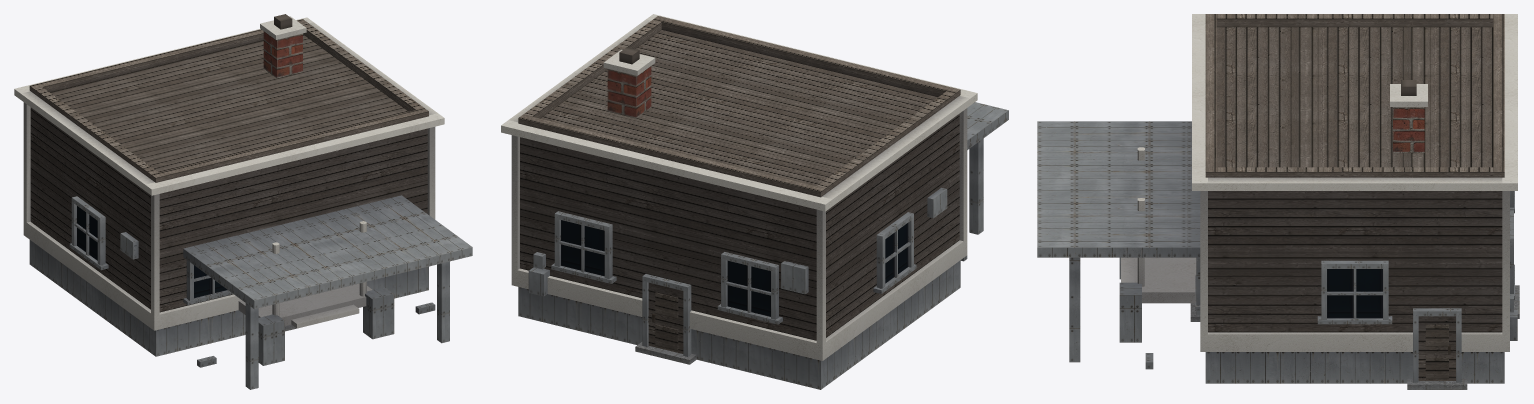
Rendered from marina-fuel-dock_lod0.gltf.
3 views of the same model, side by side, from view 1: azimuth 30°, elevation 25°; view 2: azimuth 150°, elevation 25°; view 3: azimuth 270°, elevation 25° (orthographic). The views are drawn at different scales.
Visible parts, largest first — view 1: marina-fuel-dock_upper, marina-fuel-dock__canopy, marina-fuel-dock__v4_stone_detail, marina-fuel-dock_base, marina-fuel-dock__parapet_back, marina-fuel-dock__parapet_front, marina-fuel-dock_fen_14-steel-panel_0, marina-fuel-dock__parapet_right, marina-fuel-dock__parapet_left, marina-fuel-dock__v4_brick_detail, marina-fuel-dock__fuel_pump_b, marina-fuel-dock__fuel_pump_a (+3 smaller); view 2: marina-fuel-dock_upper, marina-fuel-dock__v4_stone_detail, marina-fuel-dock_base, marina-fuel-dock_fen_14-steel-panel_0, marina-fuel-dock_fen_07-glass-curtain-blue_1_t, marina-fuel-dock__parapet_front, marina-fuel-dock__parapet_back, marina-fuel-dock__parapet_right, marina-fuel-dock__v4_brick_detail, marina-fuel-dock__parapet_left, marina-fuel-dock_fen_18-timber-siding_4, marina-fuel-dock__canopy_post_a (+3 smaller); view 3: marina-fuel-dock_upper, marina-fuel-dock__canopy, marina-fuel-dock__v4_stone_detail, marina-fuel-dock_base, marina-fuel-dock_fen_14-steel-panel_0, marina-fuel-dock__parapet_left, marina-fuel-dock__parapet_right, marina-fuel-dock_fen_07-glass-curtain-blue_1_t, marina-fuel-dock__parapet_front, marina-fuel-dock__parapet_back, marina-fuel-dock__v4_brick_detail, marina-fuel-dock_fen_18-timber-siding_4 (+4 smaller).
Part boxes in pixels (x1,y1,x2,y2): marina-fuel-dock_upper: [30, 34, 427, 312]; marina-fuel-dock__canopy: [183, 195, 472, 308]; marina-fuel-dock__v4_stone_detail: [14, 16, 444, 330]; marina-fuel-dock_base: [29, 240, 428, 356]; marina-fuel-dock__parapet_back: [29, 19, 307, 93]; marina-fuel-dock__parapet_front: [151, 108, 428, 182]; marina-fuel-dock_fen_14-steel-panel_0: [69, 196, 232, 305]; marina-fuel-dock__parapet_right: [301, 22, 423, 111]; marina-fuel-dock__parapet_left: [34, 87, 158, 179]; marina-fuel-dock__v4_brick_detail: [263, 31, 302, 78]; marina-fuel-dock__fuel_pump_b: [363, 287, 394, 339]; marina-fuel-dock__fuel_pump_a: [258, 314, 284, 365]; marina-fuel-dock_upper: [520, 30, 959, 340]; marina-fuel-dock__v4_stone_detail: [501, 14, 977, 360]; marina-fuel-dock_base: [518, 260, 960, 389]; marina-fuel-dock_fen_14-steel-panel_0: [528, 187, 947, 356]; marina-fuel-dock_fen_07-glass-curtain-blue_1_t: [561, 220, 908, 316]; marina-fuel-dock__parapet_front: [653, 16, 960, 98]; marina-fuel-dock__parapet_back: [518, 114, 825, 197]; marina-fuel-dock__parapet_right: [524, 20, 661, 118]; marina-fuel-dock__v4_brick_detail: [607, 66, 651, 118]; marina-fuel-dock__parapet_left: [817, 91, 955, 193]; marina-fuel-dock_fen_18-timber-siding_4: [648, 282, 683, 353]; marina-fuel-dock__canopy_post_a: [969, 138, 983, 234]; marina-fuel-dock_upper: [1208, 27, 1502, 332]; marina-fuel-dock__canopy: [1037, 121, 1200, 257]; marina-fuel-dock__v4_stone_detail: [1121, 14, 1517, 351]; marina-fuel-dock_base: [1205, 352, 1504, 383]; marina-fuel-dock_fen_14-steel-panel_0: [1195, 191, 1517, 382]; marina-fuel-dock__parapet_left: [1216, 14, 1493, 27]; marina-fuel-dock__parapet_right: [1216, 167, 1493, 177]; marina-fuel-dock_fen_07-glass-curtain-blue_1_t: [1327, 269, 1382, 318]; marina-fuel-dock__parapet_front: [1205, 14, 1216, 177]; marina-fuel-dock__parapet_back: [1493, 14, 1504, 177]; marina-fuel-dock__v4_brick_detail: [1393, 107, 1424, 153]; marina-fuel-dock_fen_18-timber-siding_4: [1418, 316, 1455, 380].
Bounding box in the file's own units: 10.76 × 7.84 × 12.9.
